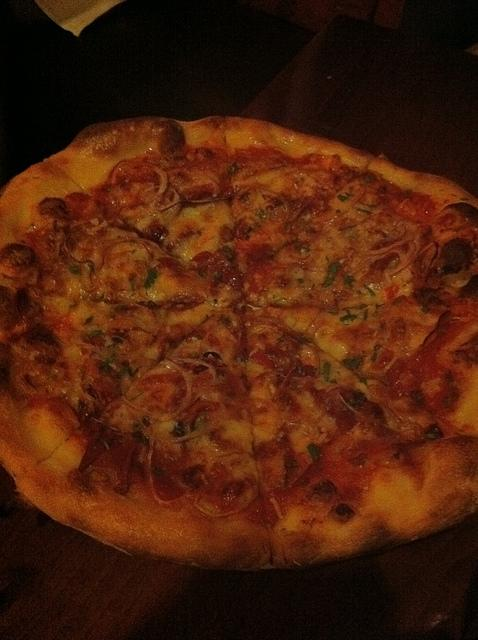onion: (121, 367, 193, 422), (148, 433, 190, 505), (280, 344, 320, 381), (193, 494, 251, 517), (64, 231, 94, 271), (260, 189, 291, 225), (417, 242, 442, 286), (109, 302, 155, 323), (388, 242, 416, 276), (274, 365, 296, 397), (365, 238, 406, 255), (302, 312, 324, 342), (138, 366, 178, 382), (75, 371, 95, 402), (192, 360, 217, 380), (370, 249, 408, 262), (108, 160, 128, 184), (15, 372, 36, 394), (9, 340, 31, 360), (155, 166, 169, 196), (172, 430, 205, 442), (170, 185, 182, 216), (270, 498, 284, 520), (382, 356, 398, 375), (399, 199, 416, 216), (236, 212, 260, 224), (56, 356, 82, 366), (254, 324, 279, 334), (405, 264, 418, 278), (338, 250, 346, 258)
